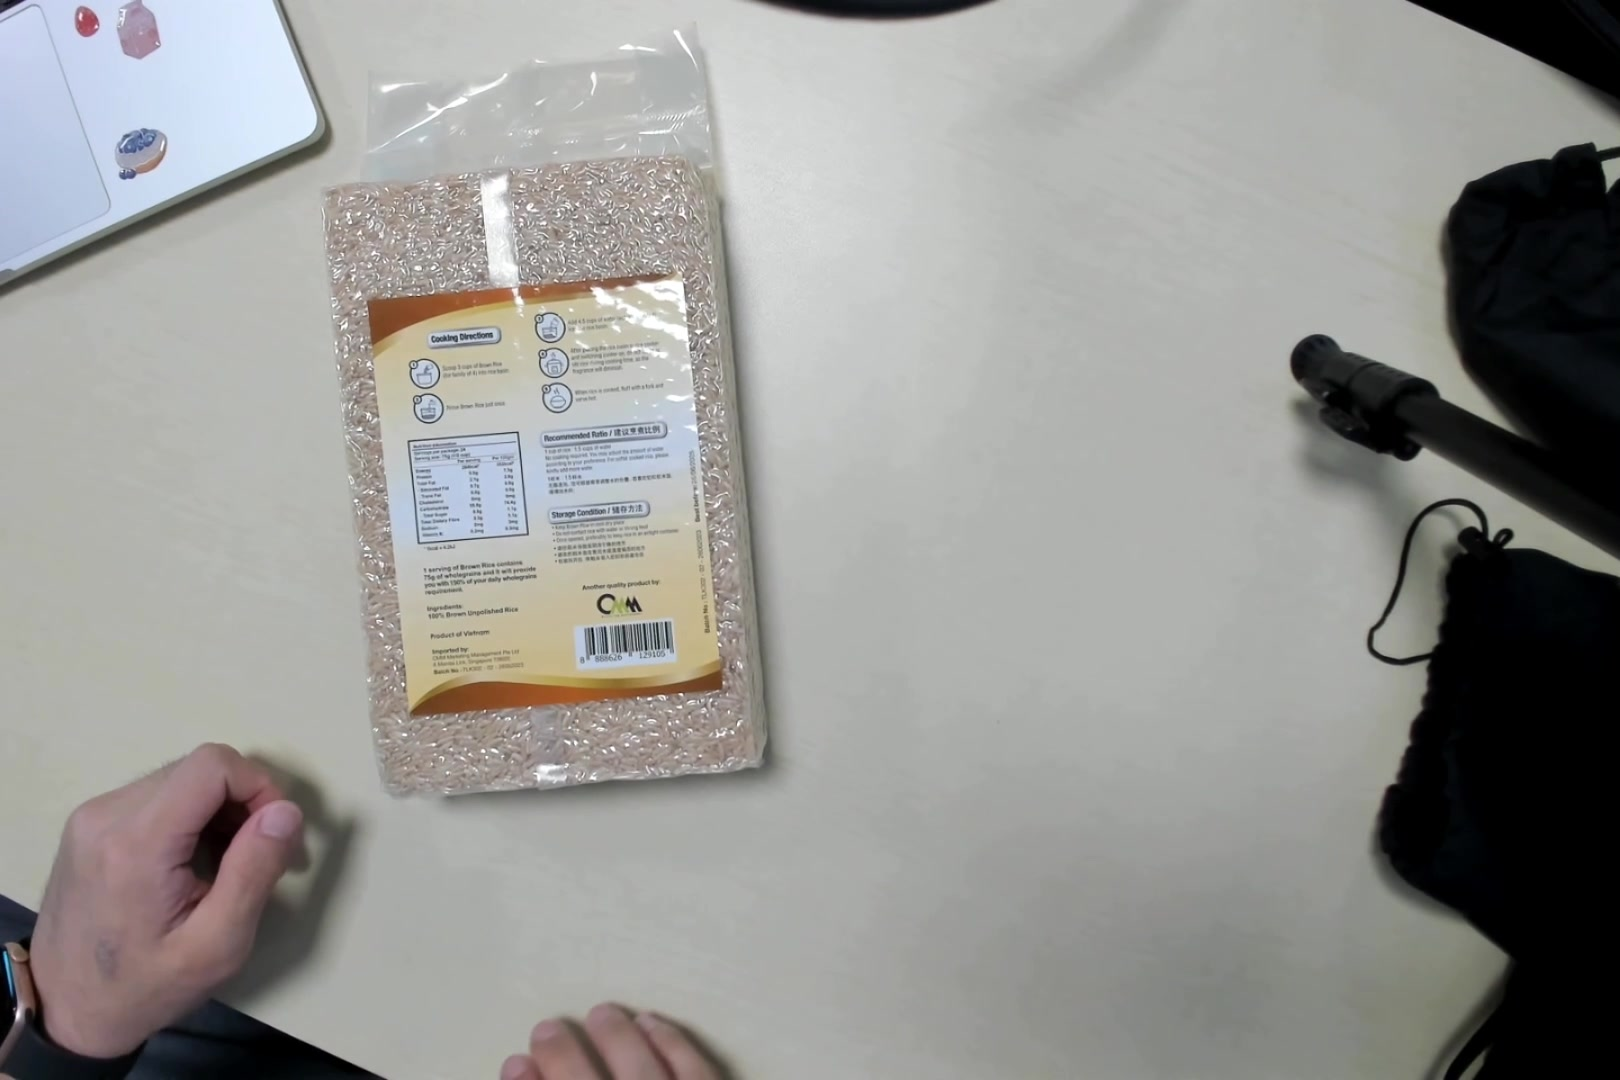Rice(BrownOthers)_1000-1999g_NonHalal_Healthy: (328, 57, 779, 803)
